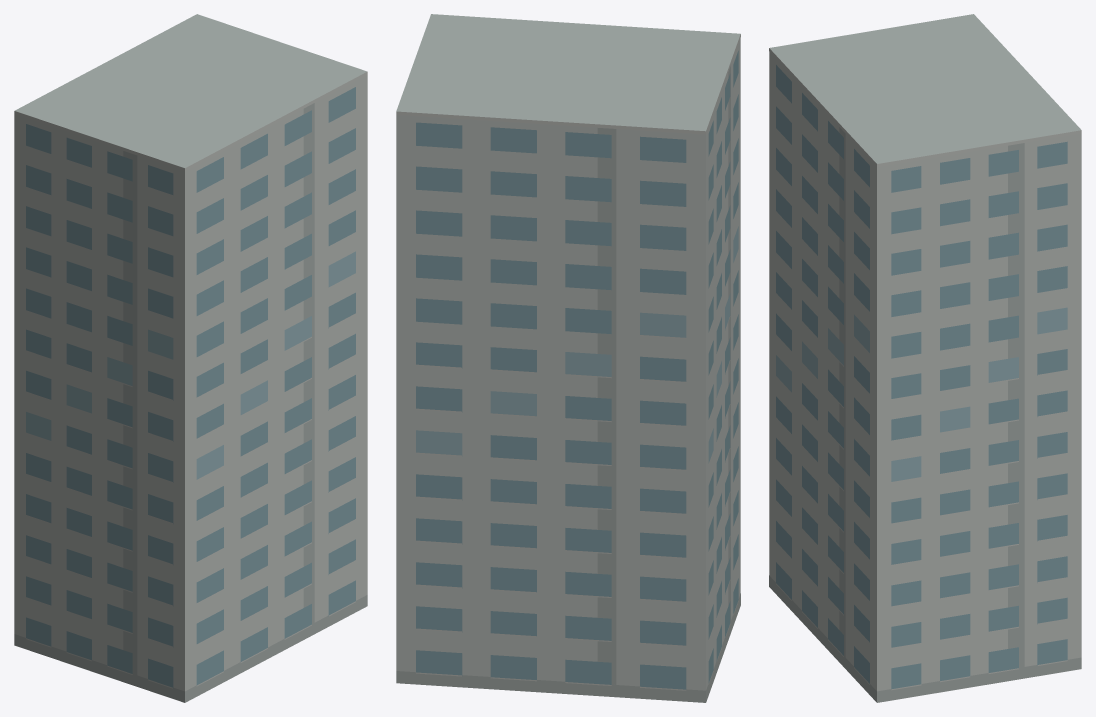
Rendered from residential-0400d593-a202-4aaa-9949-90e689dc97bf.glb.
3 renders of one model, left to right at view 1: azimuth 30°, elevation 25°; view 2: azimuth 150°, elevation 25°; view 3: azimuth 270°, elevation 25°, orthographic. The views are drawn at different scales.
Parts seen in each view (by area): view 1: residential-0400d593-a202-4aaa-9949-90e689dc97bf.tmp; view 2: residential-0400d593-a202-4aaa-9949-90e689dc97bf.tmp; view 3: residential-0400d593-a202-4aaa-9949-90e689dc97bf.tmp.
Part boxes in pixels (left/top/right/bottom): residential-0400d593-a202-4aaa-9949-90e689dc97bf.tmp: left=14, top=14, right=367, bottom=702; residential-0400d593-a202-4aaa-9949-90e689dc97bf.tmp: left=396, top=14, right=740, bottom=702; residential-0400d593-a202-4aaa-9949-90e689dc97bf.tmp: left=769, top=14, right=1081, bottom=702.
Bounding box in the file's own units: 23.9 × 40 × 21.04.
